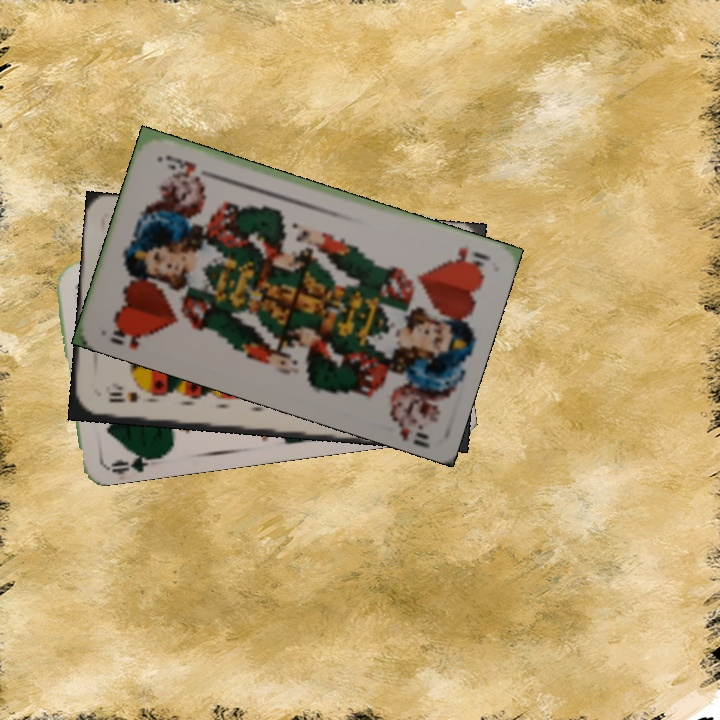GO: (104, 446, 162, 476)
HO: (105, 319, 157, 352), (451, 242, 493, 270)
S10: (105, 387, 143, 406)
